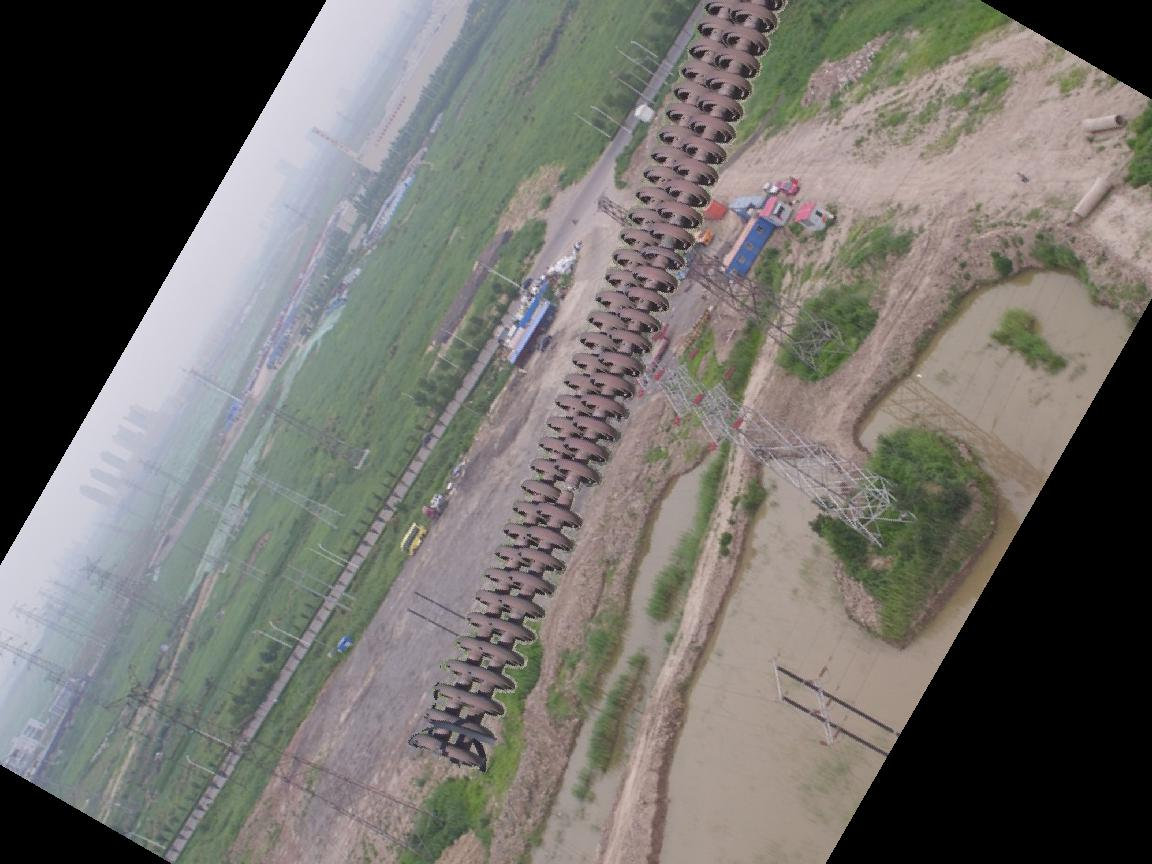insulator: (402, 1, 789, 780)
insulator_stringdrop: (533, 456, 605, 535)
